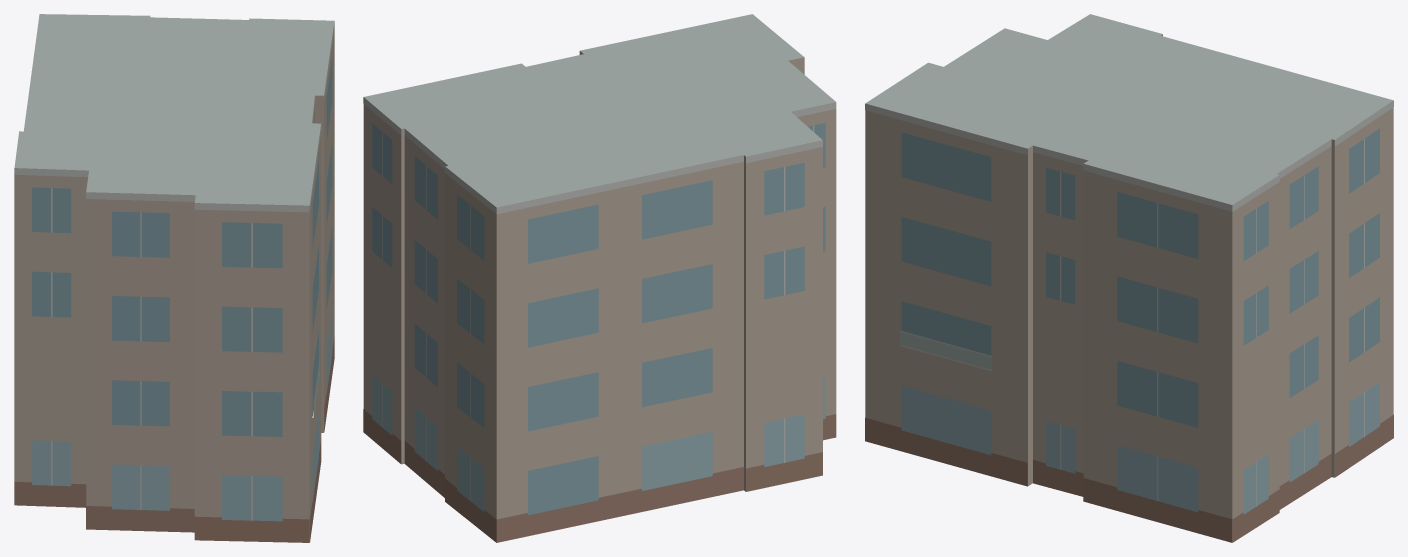
Rendered from survey-upis-32524473.glb.
3 renders of one model, left to right at view 1: azimuth 30°, elevation 25°; view 2: azimuth 150°, elevation 25°; view 3: azimuth 270°, elevation 25°, orthographic.
Visible parts, largest first — view 1: survey-upis-32524473.tmp; view 2: survey-upis-32524473.tmp; view 3: survey-upis-32524473.tmp.
Boxes of the visible parts, x1,y1,x2,y2 form: survey-upis-32524473.tmp: (14,14,334,542); survey-upis-32524473.tmp: (363,14,836,542); survey-upis-32524473.tmp: (865,14,1393,542).
Bounding box in the file's own units: 14.81 × 12.2 × 17.31.
